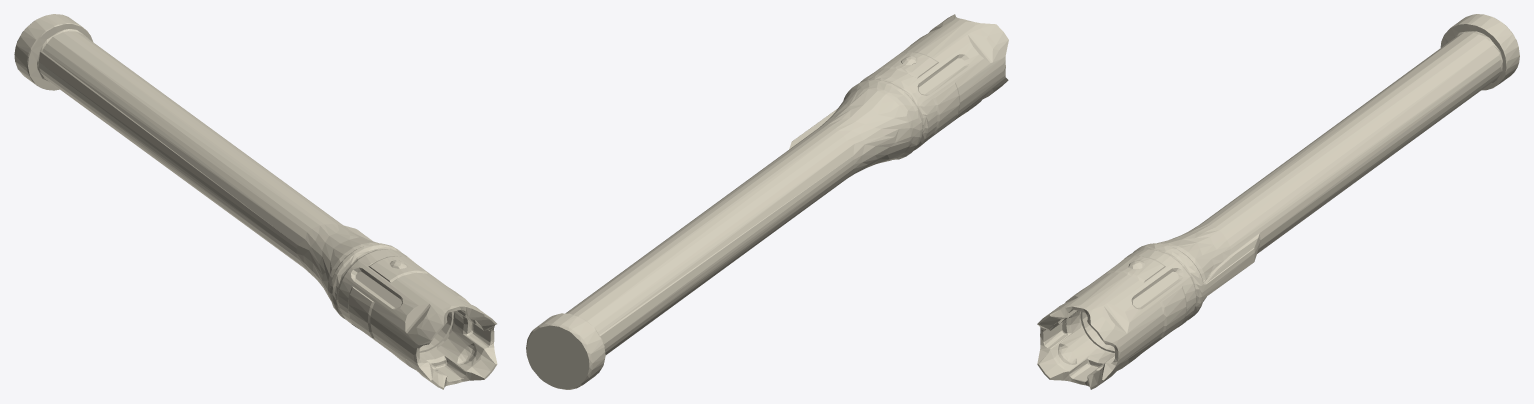
The model's file is ares-tube.glb.
The picture shows the model from 3 angles, left to right: view 1: azimuth 30°, elevation 25°; view 2: azimuth 150°, elevation 25°; view 3: azimuth 330°, elevation 25°; orthographic projection.
Parts seen in each view (by area): view 1: NASA sample tube; view 2: NASA sample tube; view 3: NASA sample tube.
Part boxes in pixels (x1,y1,x2,y2): NASA sample tube: [14, 14, 497, 389]; NASA sample tube: [526, 14, 1008, 389]; NASA sample tube: [1037, 14, 1519, 389].
Size of the model in its own units: 0.02 by 0.0199 by 0.18.
